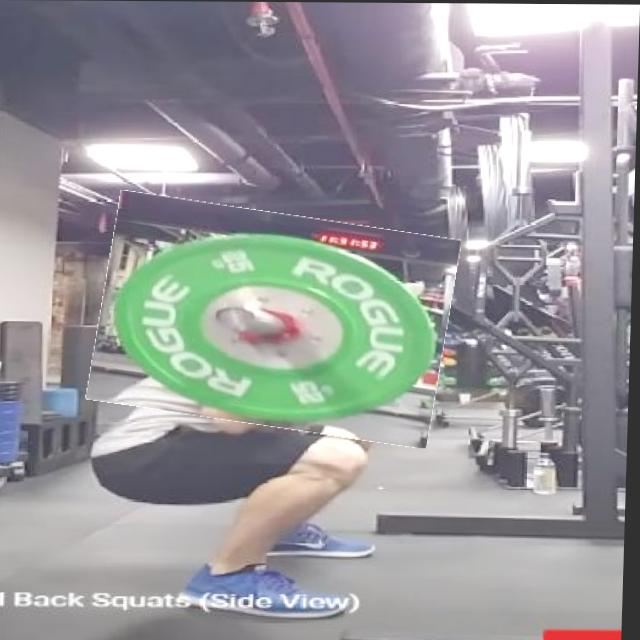barbell: (95, 202, 458, 438)
